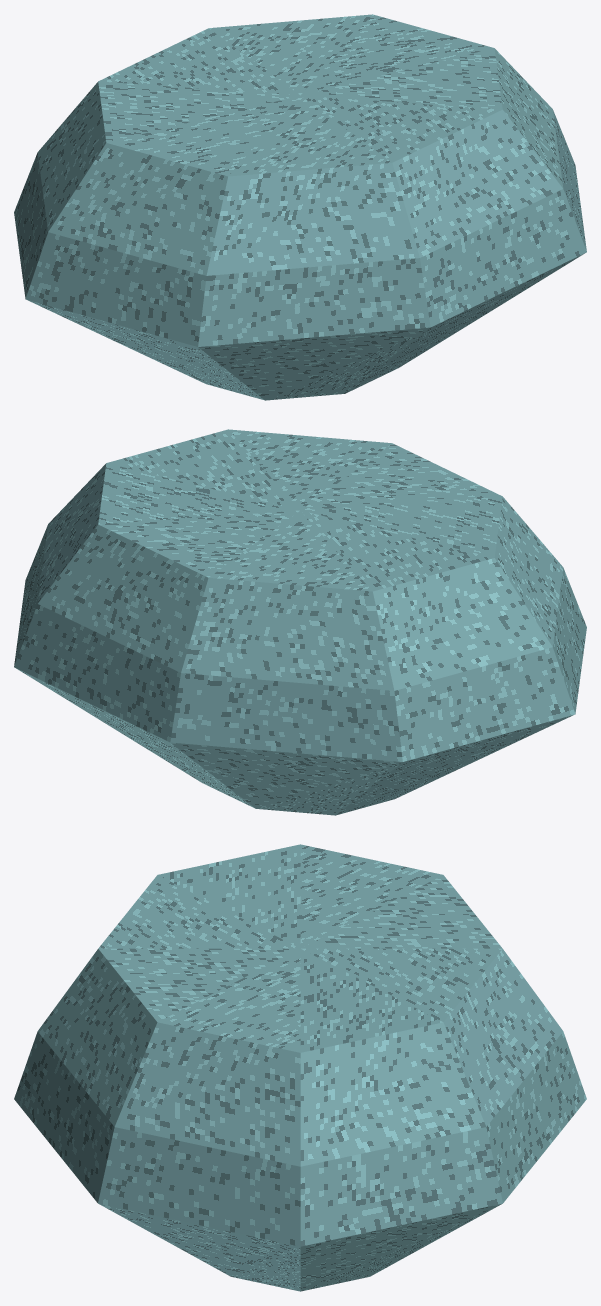
The model's file is aquamarine.glb.
The picture shows the model from 3 angles, top to bottom: view 1: azimuth 30°, elevation 25°; view 2: azimuth 150°, elevation 25°; view 3: azimuth 270°, elevation 25°; orthographic projection. The views are drawn at different scales.
Visible parts, largest first — view 1: block_faceted cut stone; view 2: block_faceted cut stone; view 3: block_faceted cut stone.
Boxes of the visible parts, x1,y1,x2,y2 form: block_faceted cut stone: (14, 14, 586, 400); block_faceted cut stone: (14, 429, 586, 815); block_faceted cut stone: (14, 844, 586, 1291).
Bounding box in the file's own units: 0.0505 × 0.0246 × 0.0414.
1 material, 1 textured.
